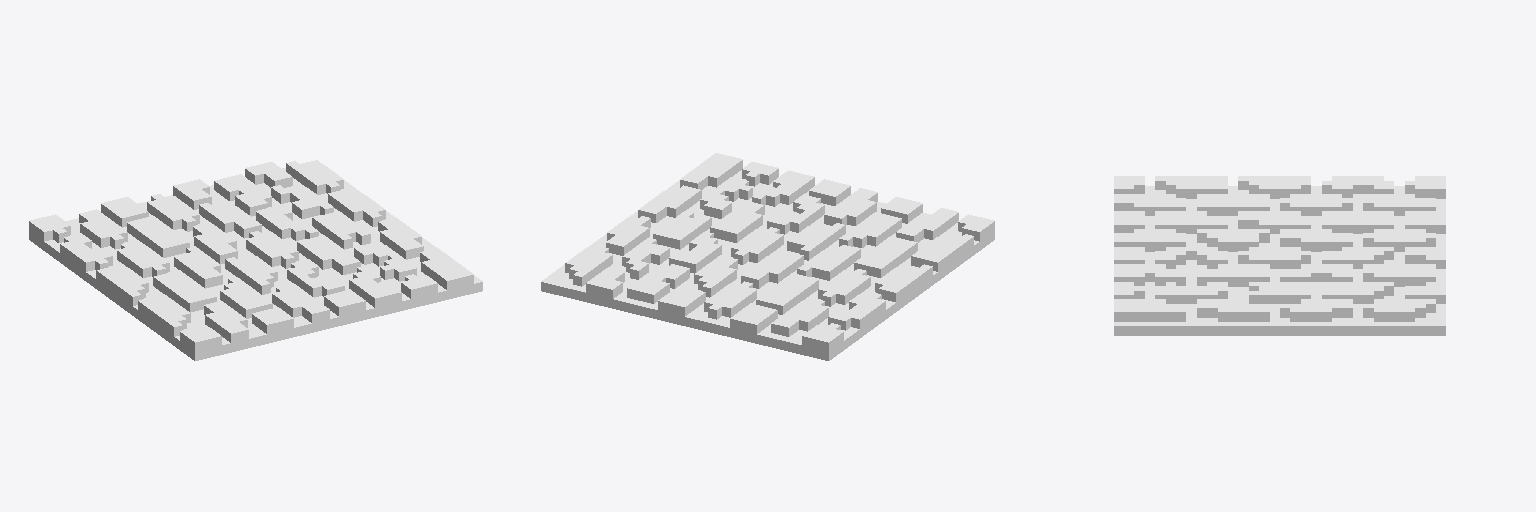
File: brickDamaged1.obj
3 renders of one model, left to right at view 1: azimuth 30°, elevation 25°; view 2: azimuth 150°, elevation 25°; view 3: azimuth 270°, elevation 25°, orthographic.
Visible parts, largest first — view 1: object 1; view 2: object 1; view 3: object 1.
Part boxes in pixels (x1,y1,x2,y2): object 1: (29, 160, 482, 360); object 1: (541, 153, 994, 360); object 1: (1114, 176, 1445, 335).
Bounding box in the file's own units: 3.2 × 0.2 × 3.2.